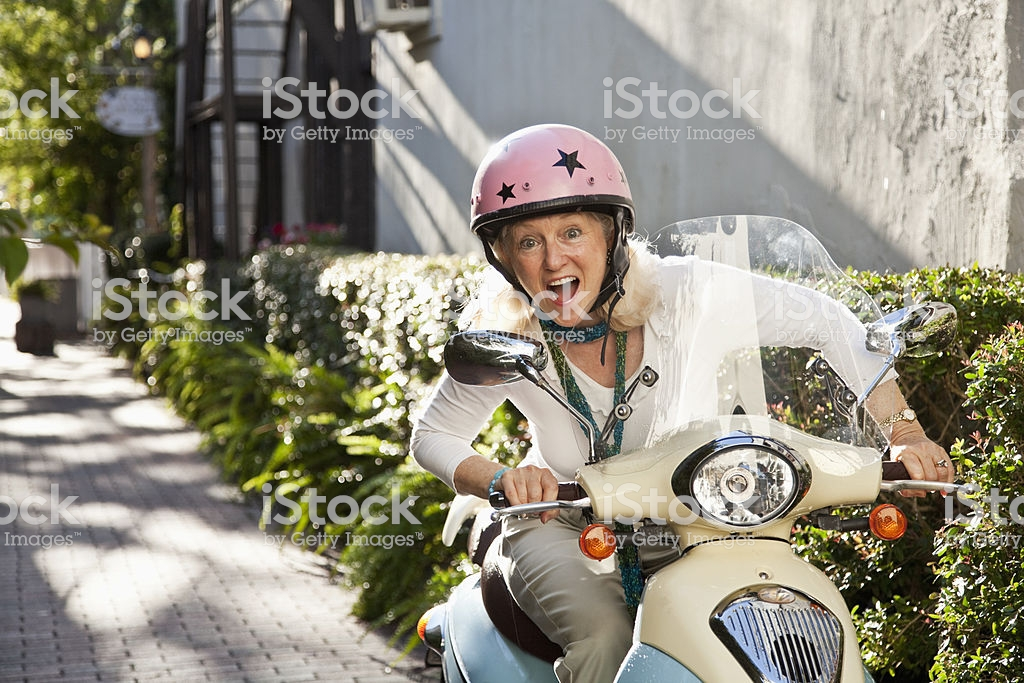helmet: (456, 114, 624, 213)
